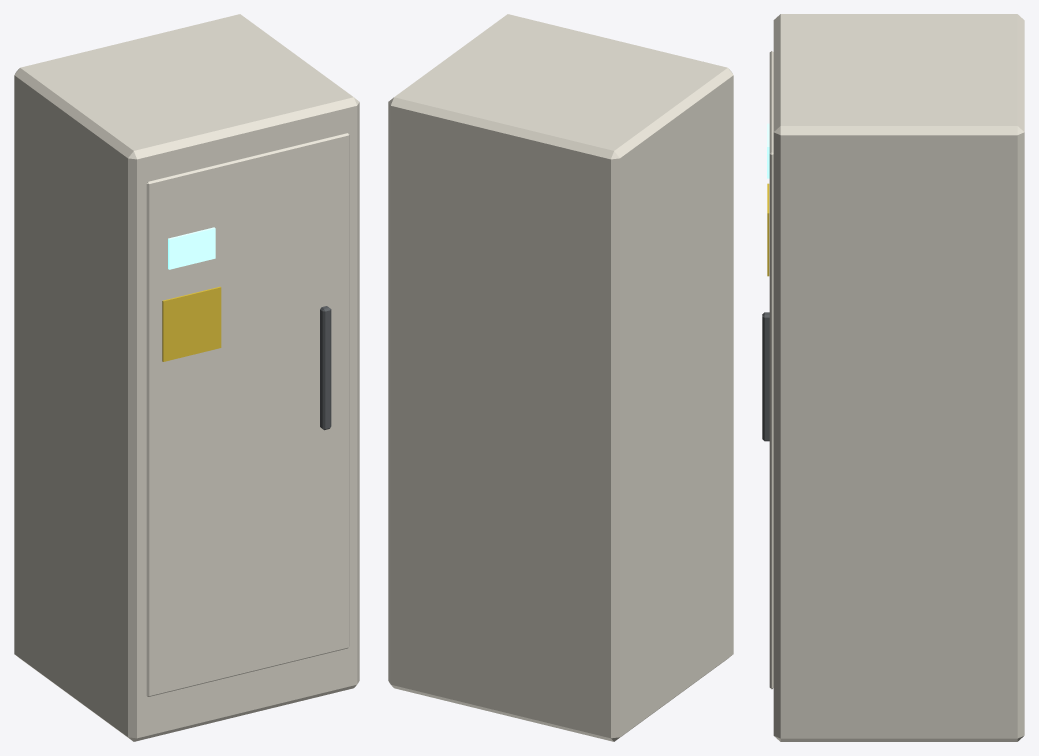
The model's file is sample_freezer.glb.
3 renders of one model, left to right at view 1: azimuth 30°, elevation 25°; view 2: azimuth 150°, elevation 25°; view 3: azimuth 270°, elevation 25°, orthographic. The views are drawn at different scales.
Visible parts, largest first — view 1: sample_freezer; view 2: sample_freezer; view 3: sample_freezer.
Part boxes in pixels (left/top/right/bottom): sample_freezer: left=14, top=14, right=359, bottom=741; sample_freezer: left=388, top=14, right=733, bottom=741; sample_freezer: left=762, top=14, right=1024, bottom=741.
Size of the model in its own units: 0.8 by 1.95 by 0.752.
